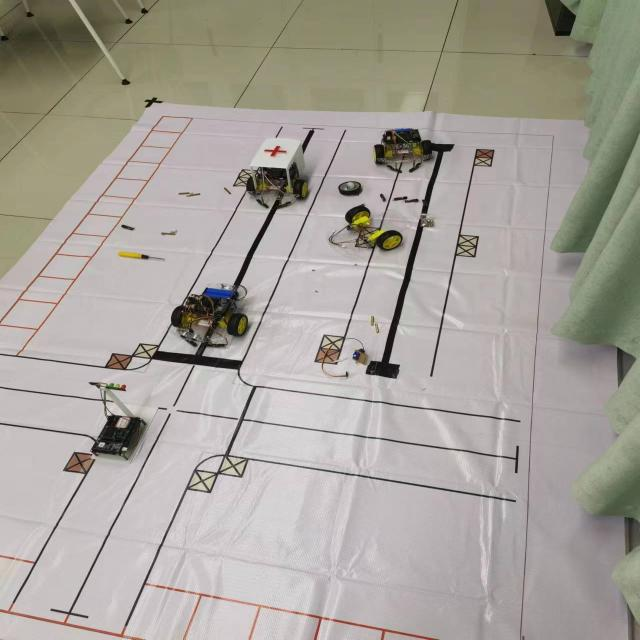RedCross: (261, 143, 288, 158)
